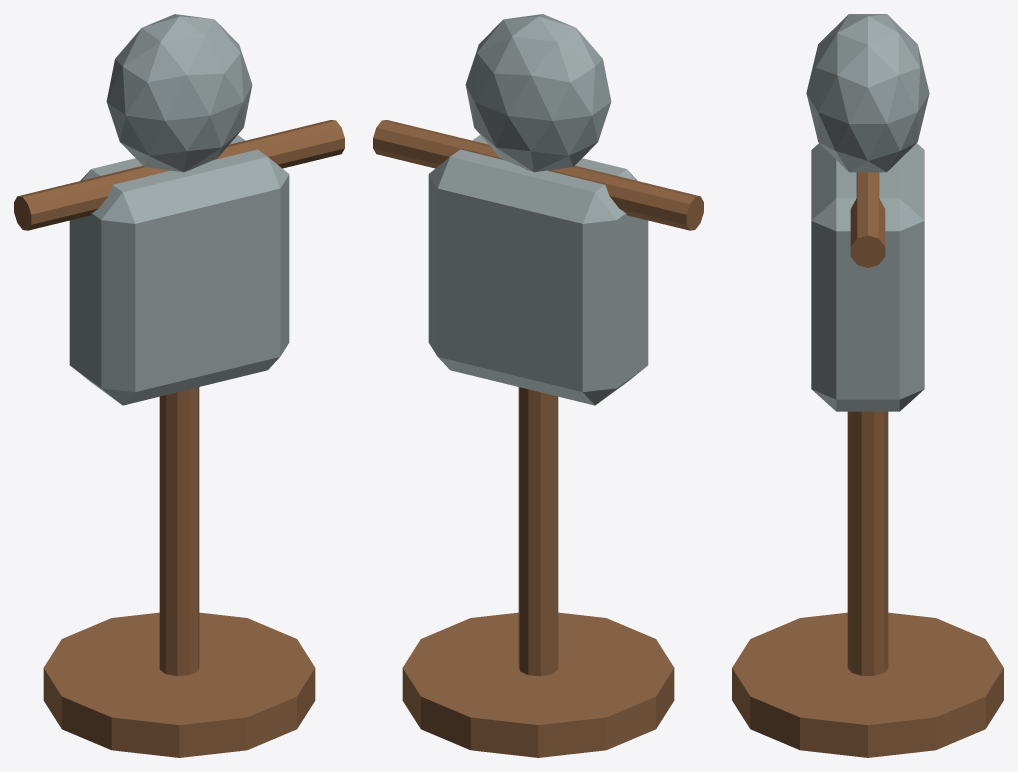
File: Armor_Stand_A.glb
3 renders of one model, left to right at view 1: azimuth 30°, elevation 25°; view 2: azimuth 150°, elevation 25°; view 3: azimuth 270°, elevation 25°, orthographic.
Parts seen in each view (by area): view 1: Armor_Stand_A; view 2: Armor_Stand_A; view 3: Armor_Stand_A.
Boxes of the visible parts, x1=… form: Armor_Stand_A: x1=14, y1=14, x2=344, y2=757; Armor_Stand_A: x1=373, y1=14, x2=703, y2=757; Armor_Stand_A: x1=732, y1=14, x2=1003, y2=757.
Bounding box in the file's own units: 0.8 × 1.67 × 0.6.
